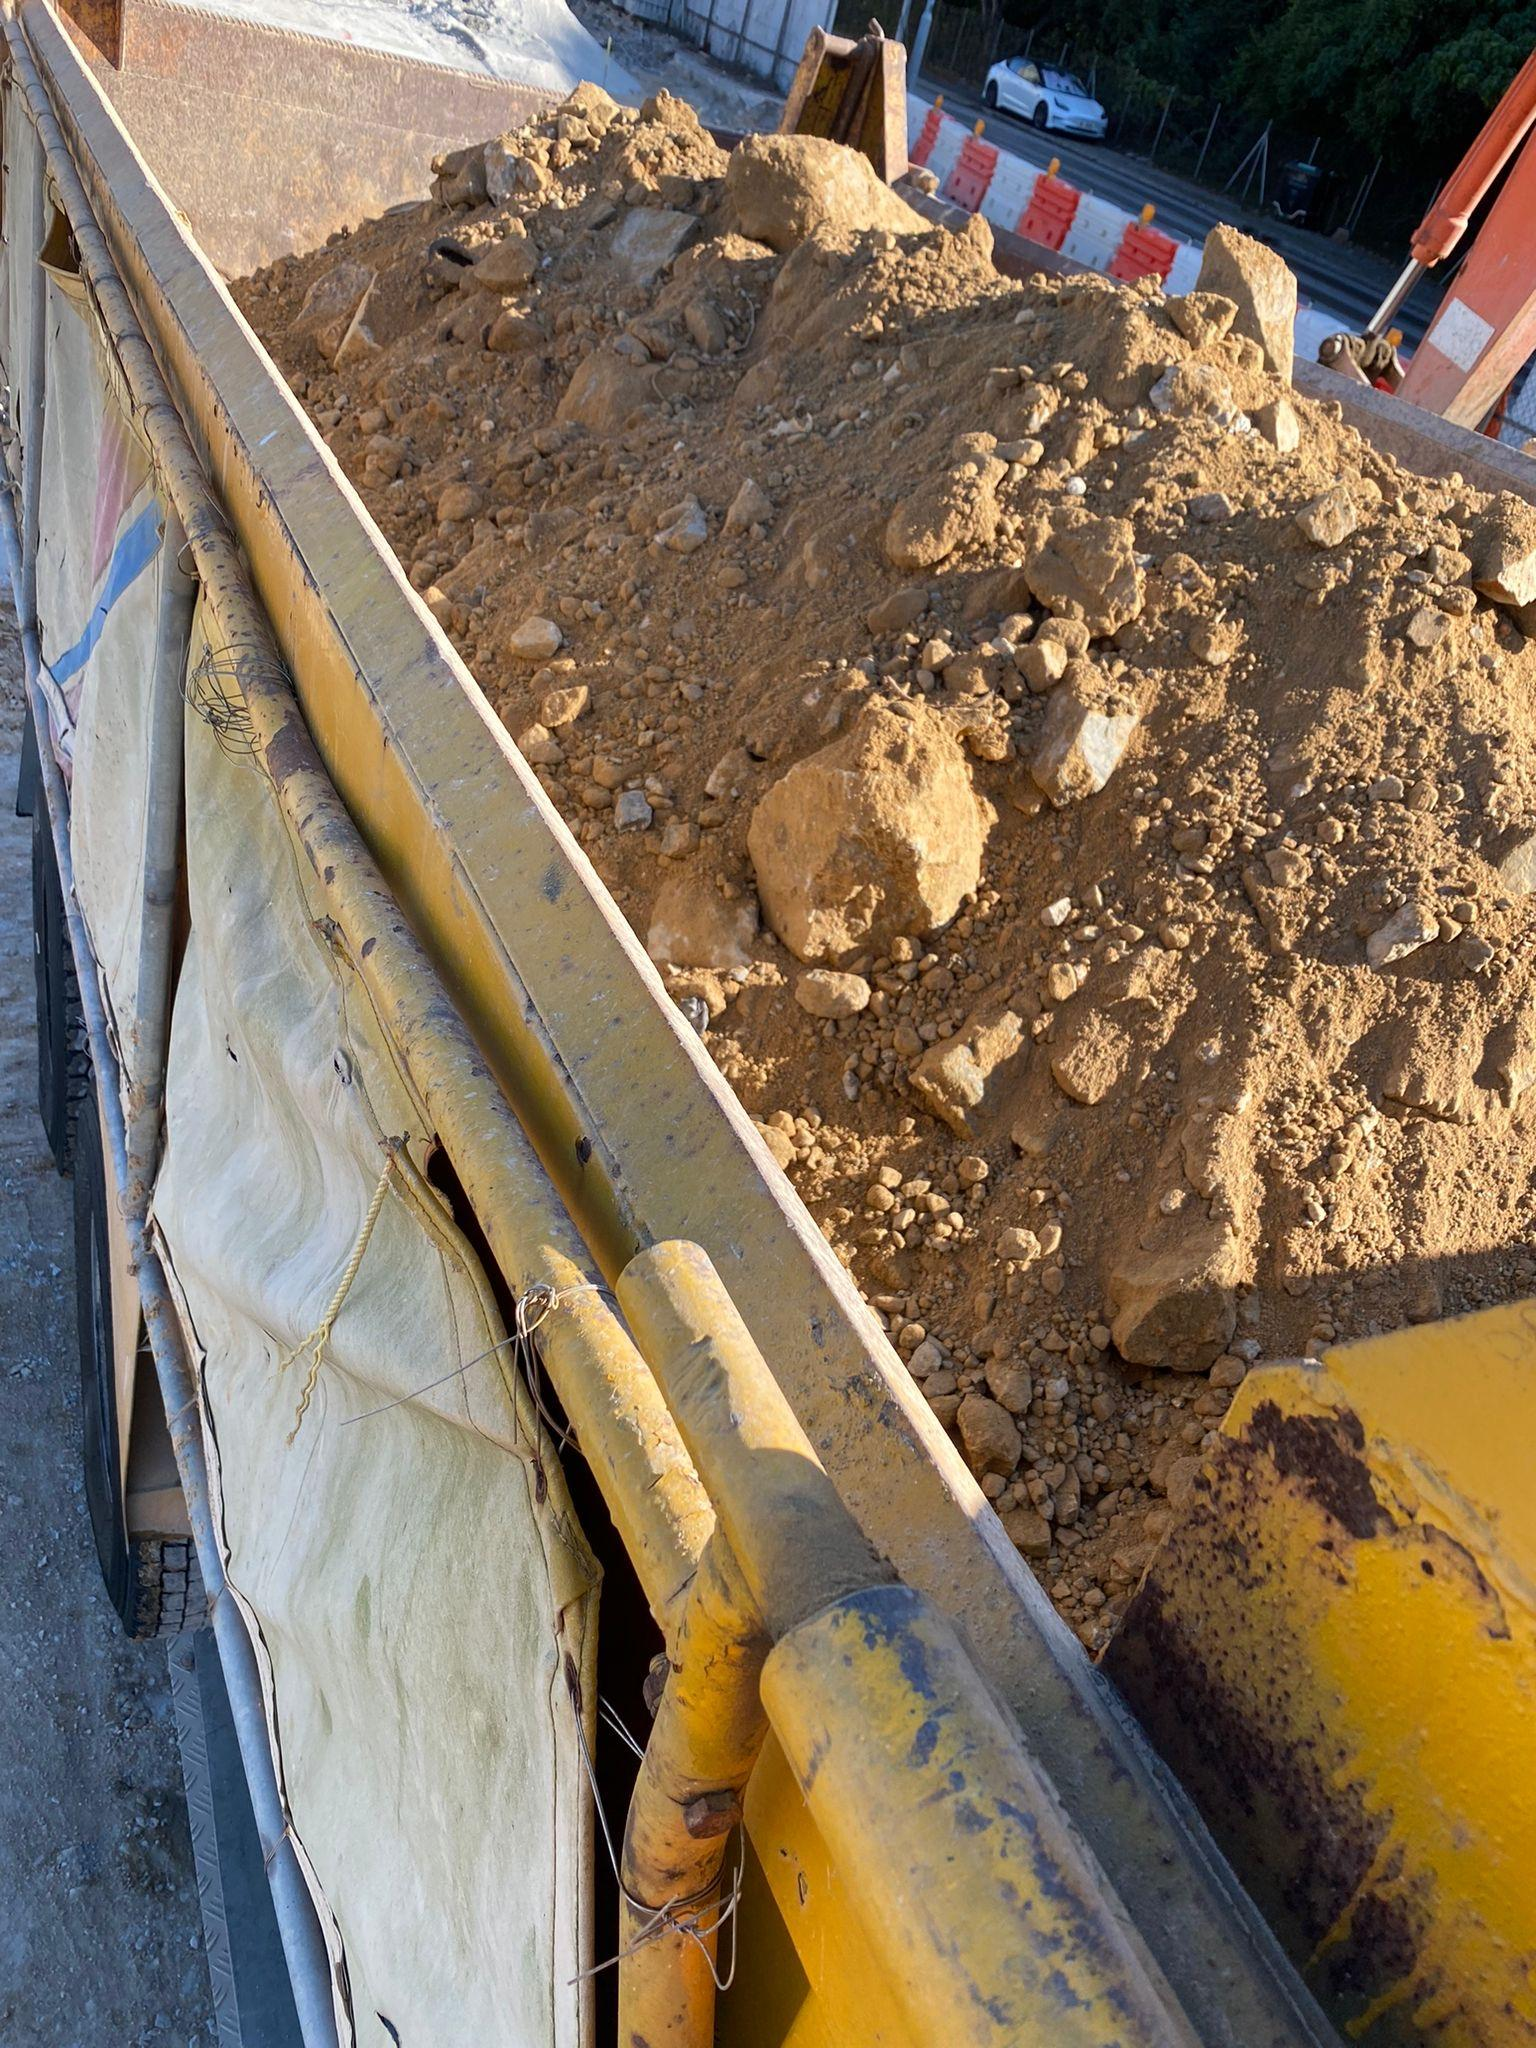dry: (219, 87, 1533, 1643)
